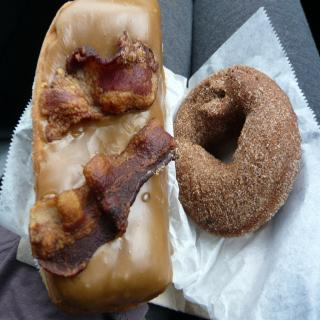Doughnut: (168, 62, 305, 239)
